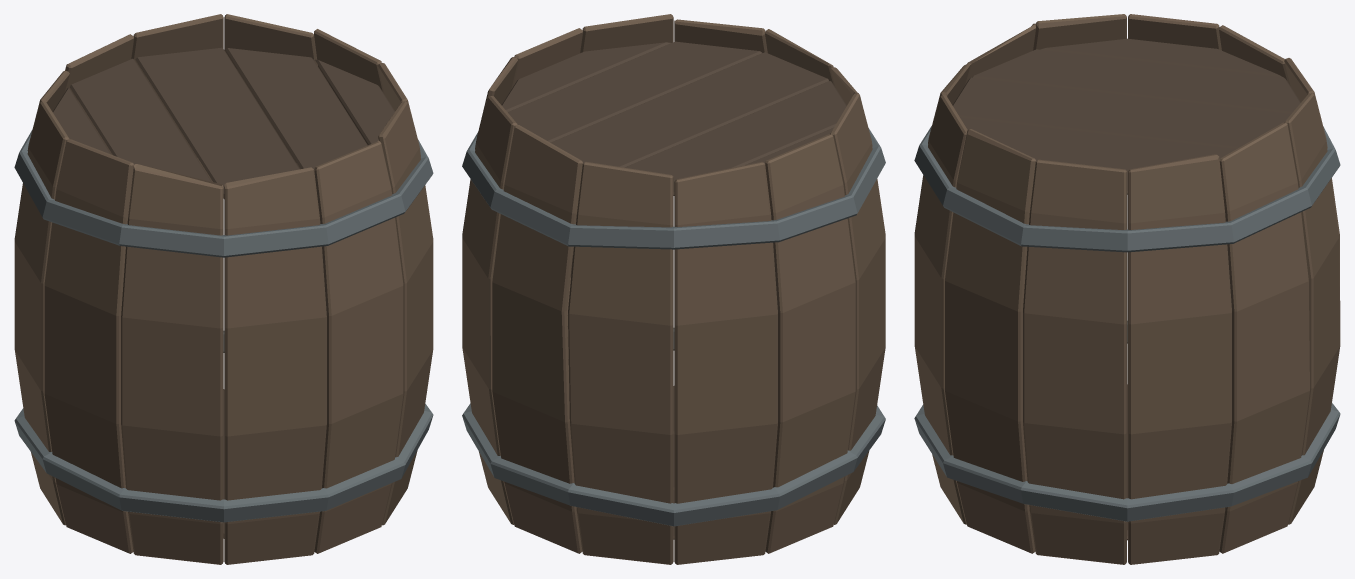
File: Barrel.fbx
The picture shows the model from 3 angles, left to right: view 1: azimuth 30°, elevation 25°; view 2: azimuth 150°, elevation 25°; view 3: azimuth 270°, elevation 25°; orthographic projection.
Parts seen in each view (by area): view 1: Cylinder, Cylinder.002, Cylinder.001; view 2: Cylinder, Cylinder.002, Cylinder.001; view 3: Cylinder, Cylinder.002, Cylinder.001.
Part boxes in pixels (x1,y1,x2,y2): Cylinder: (14, 14, 433, 564); Cylinder.002: (53, 47, 394, 538); Cylinder.001: (14, 130, 433, 522); Cylinder: (462, 14, 885, 564); Cylinder.002: (501, 41, 846, 539); Cylinder.001: (462, 128, 885, 526); Cylinder: (914, 14, 1340, 564); Cylinder.002: (952, 38, 1300, 540); Cylinder.001: (914, 126, 1340, 521).
Size of the model in its own units: 227 by 238 by 227.
